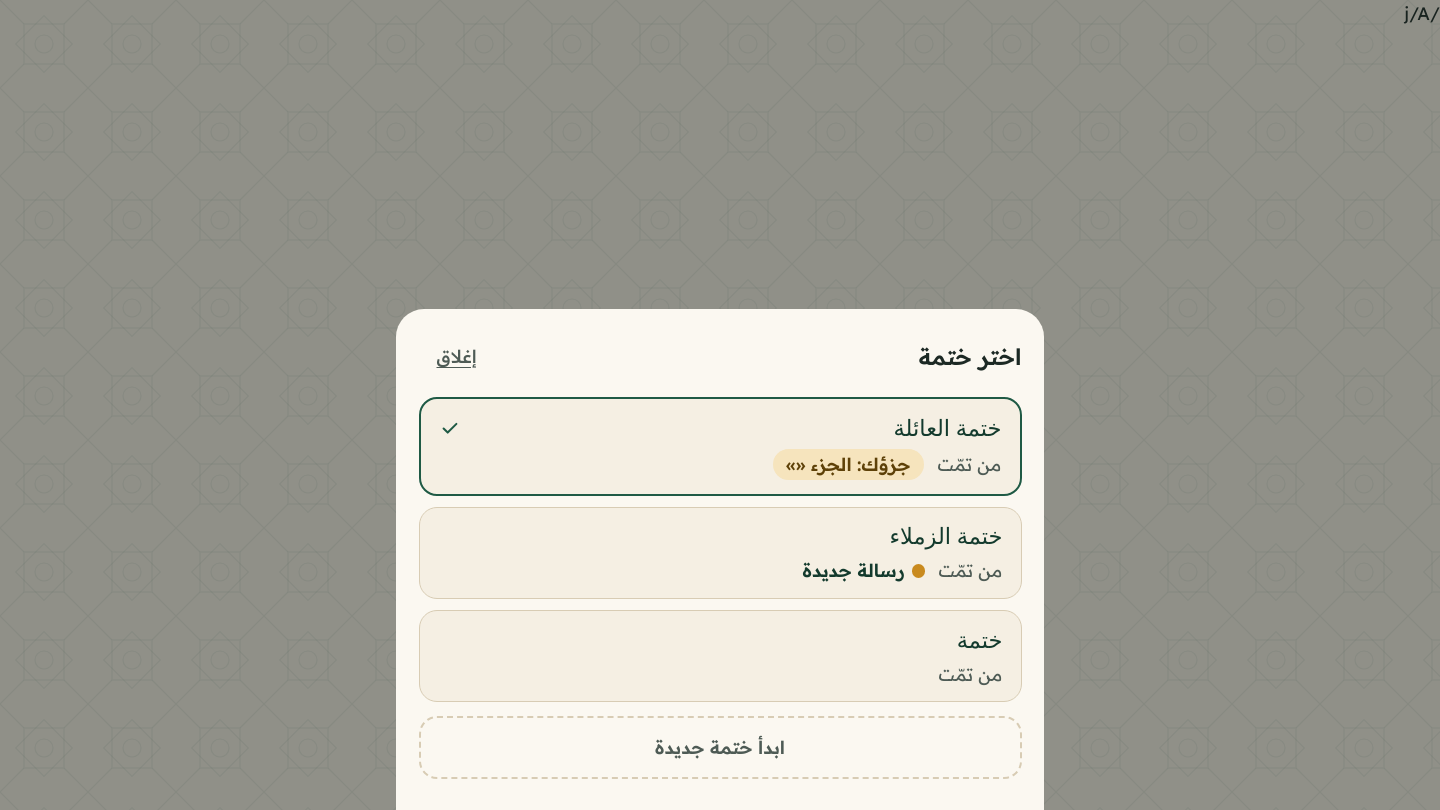
SwitchKhatmaSheet › links other khatmas to their page and closes
Click the link "ختمة الزملاء من تمّت رسالة جديدة": (946, 537) 418,507 -> 1022,599
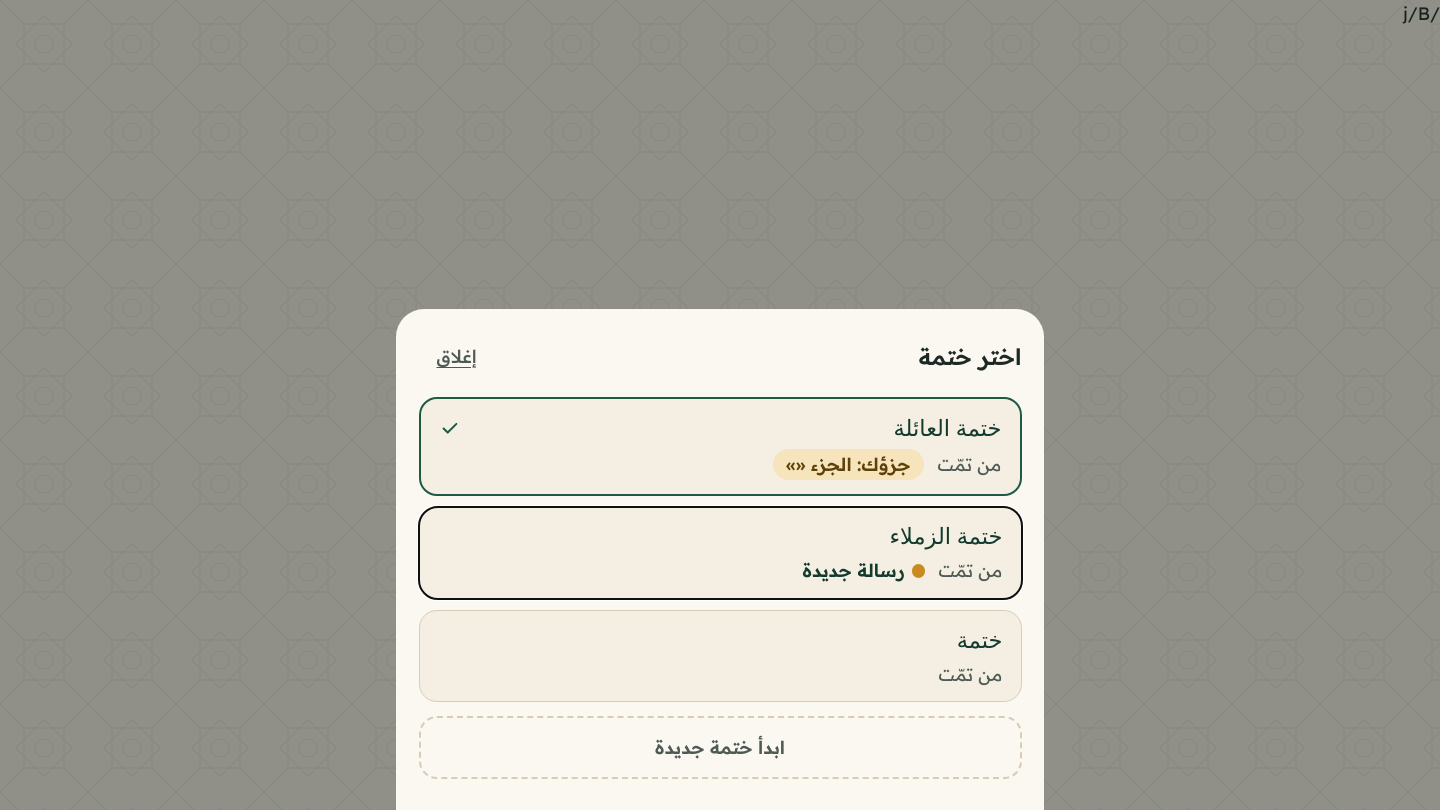
Now the text with test id "where" reads "/j/B", box 1403,2 -> 1439,25
